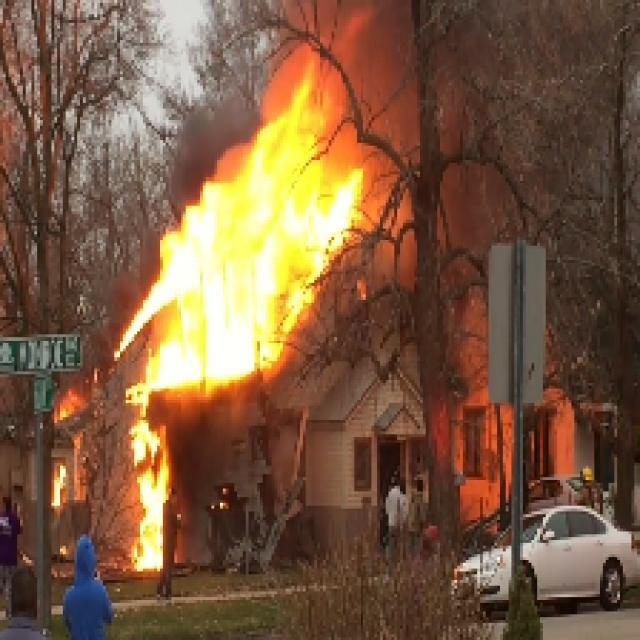Fire: (128, 108, 344, 380)
